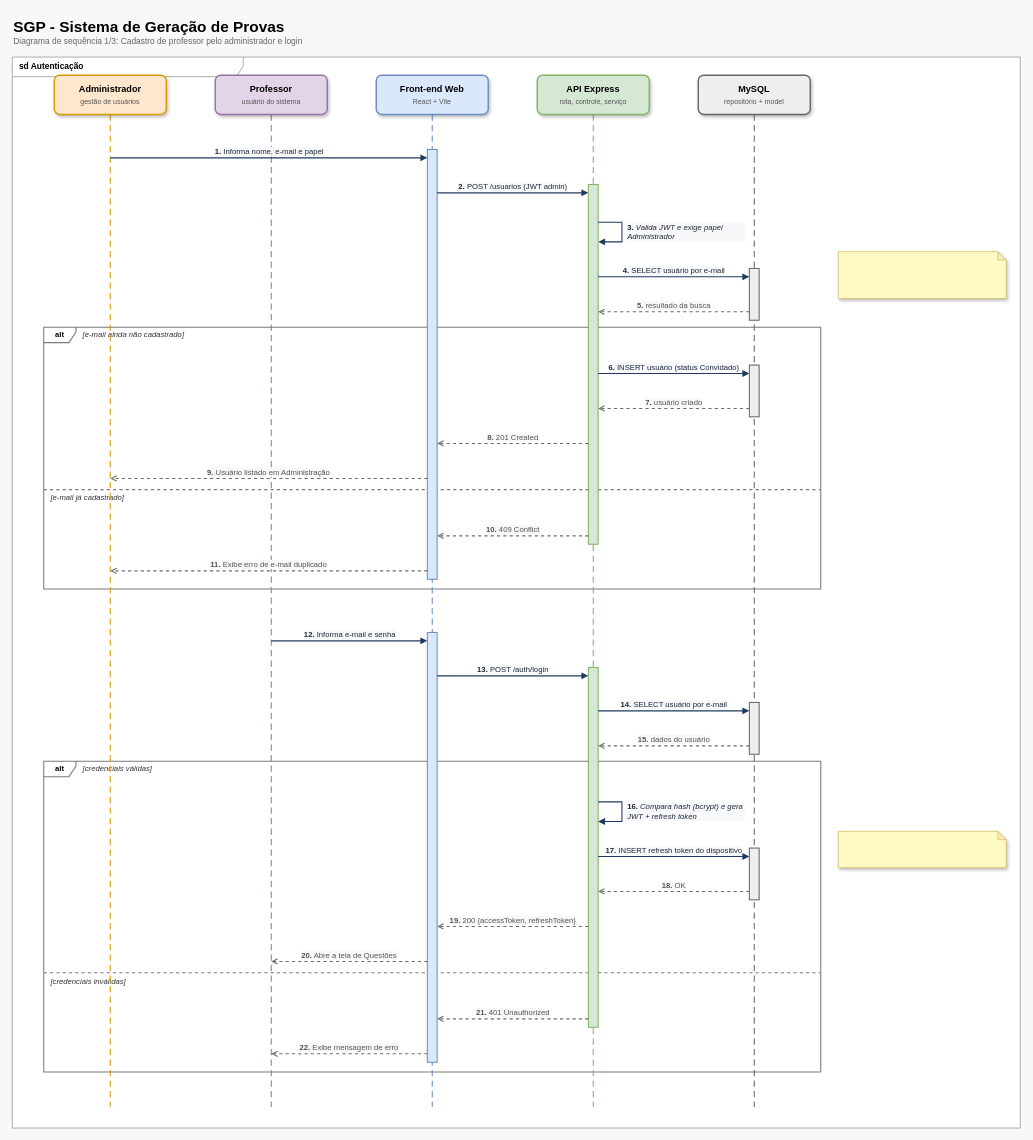
This 1033x1140 diagram has some shape labels left out. Each missing label, with the centre of its shape:
Nota: Senhas com hash bcrypt (RNF02); JWT + refresh token (RNF03).: pixel 922 850
Nota: Só o perfil Administrador cria professores; o aluno não tem conta (RF01).: pixel 922 275
